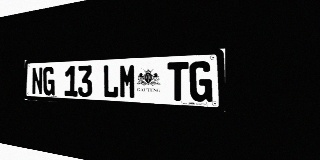1: (65, 66, 78, 97)
3: (78, 65, 92, 97)
G: (189, 61, 212, 102), (43, 67, 55, 96)
L: (103, 64, 119, 98)
M: (119, 64, 136, 99)
N: (32, 67, 43, 95)
T: (167, 62, 188, 101)
